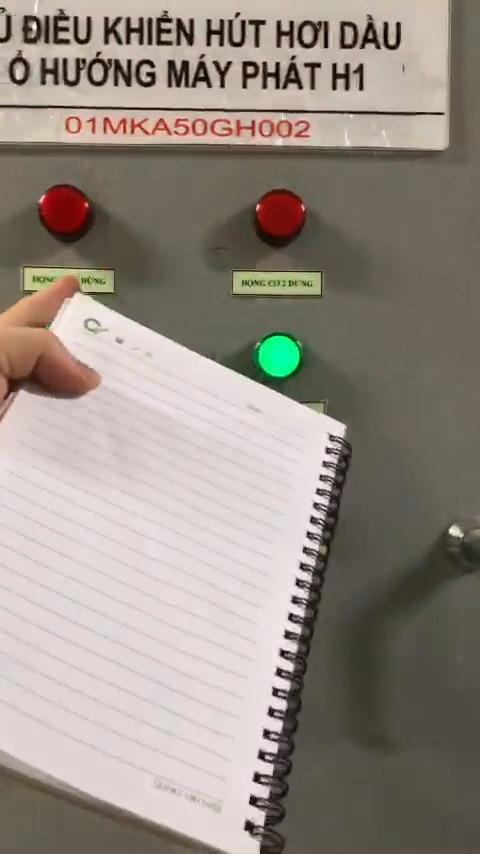led: (248, 186, 309, 244), (36, 182, 90, 237), (257, 334, 304, 379)
